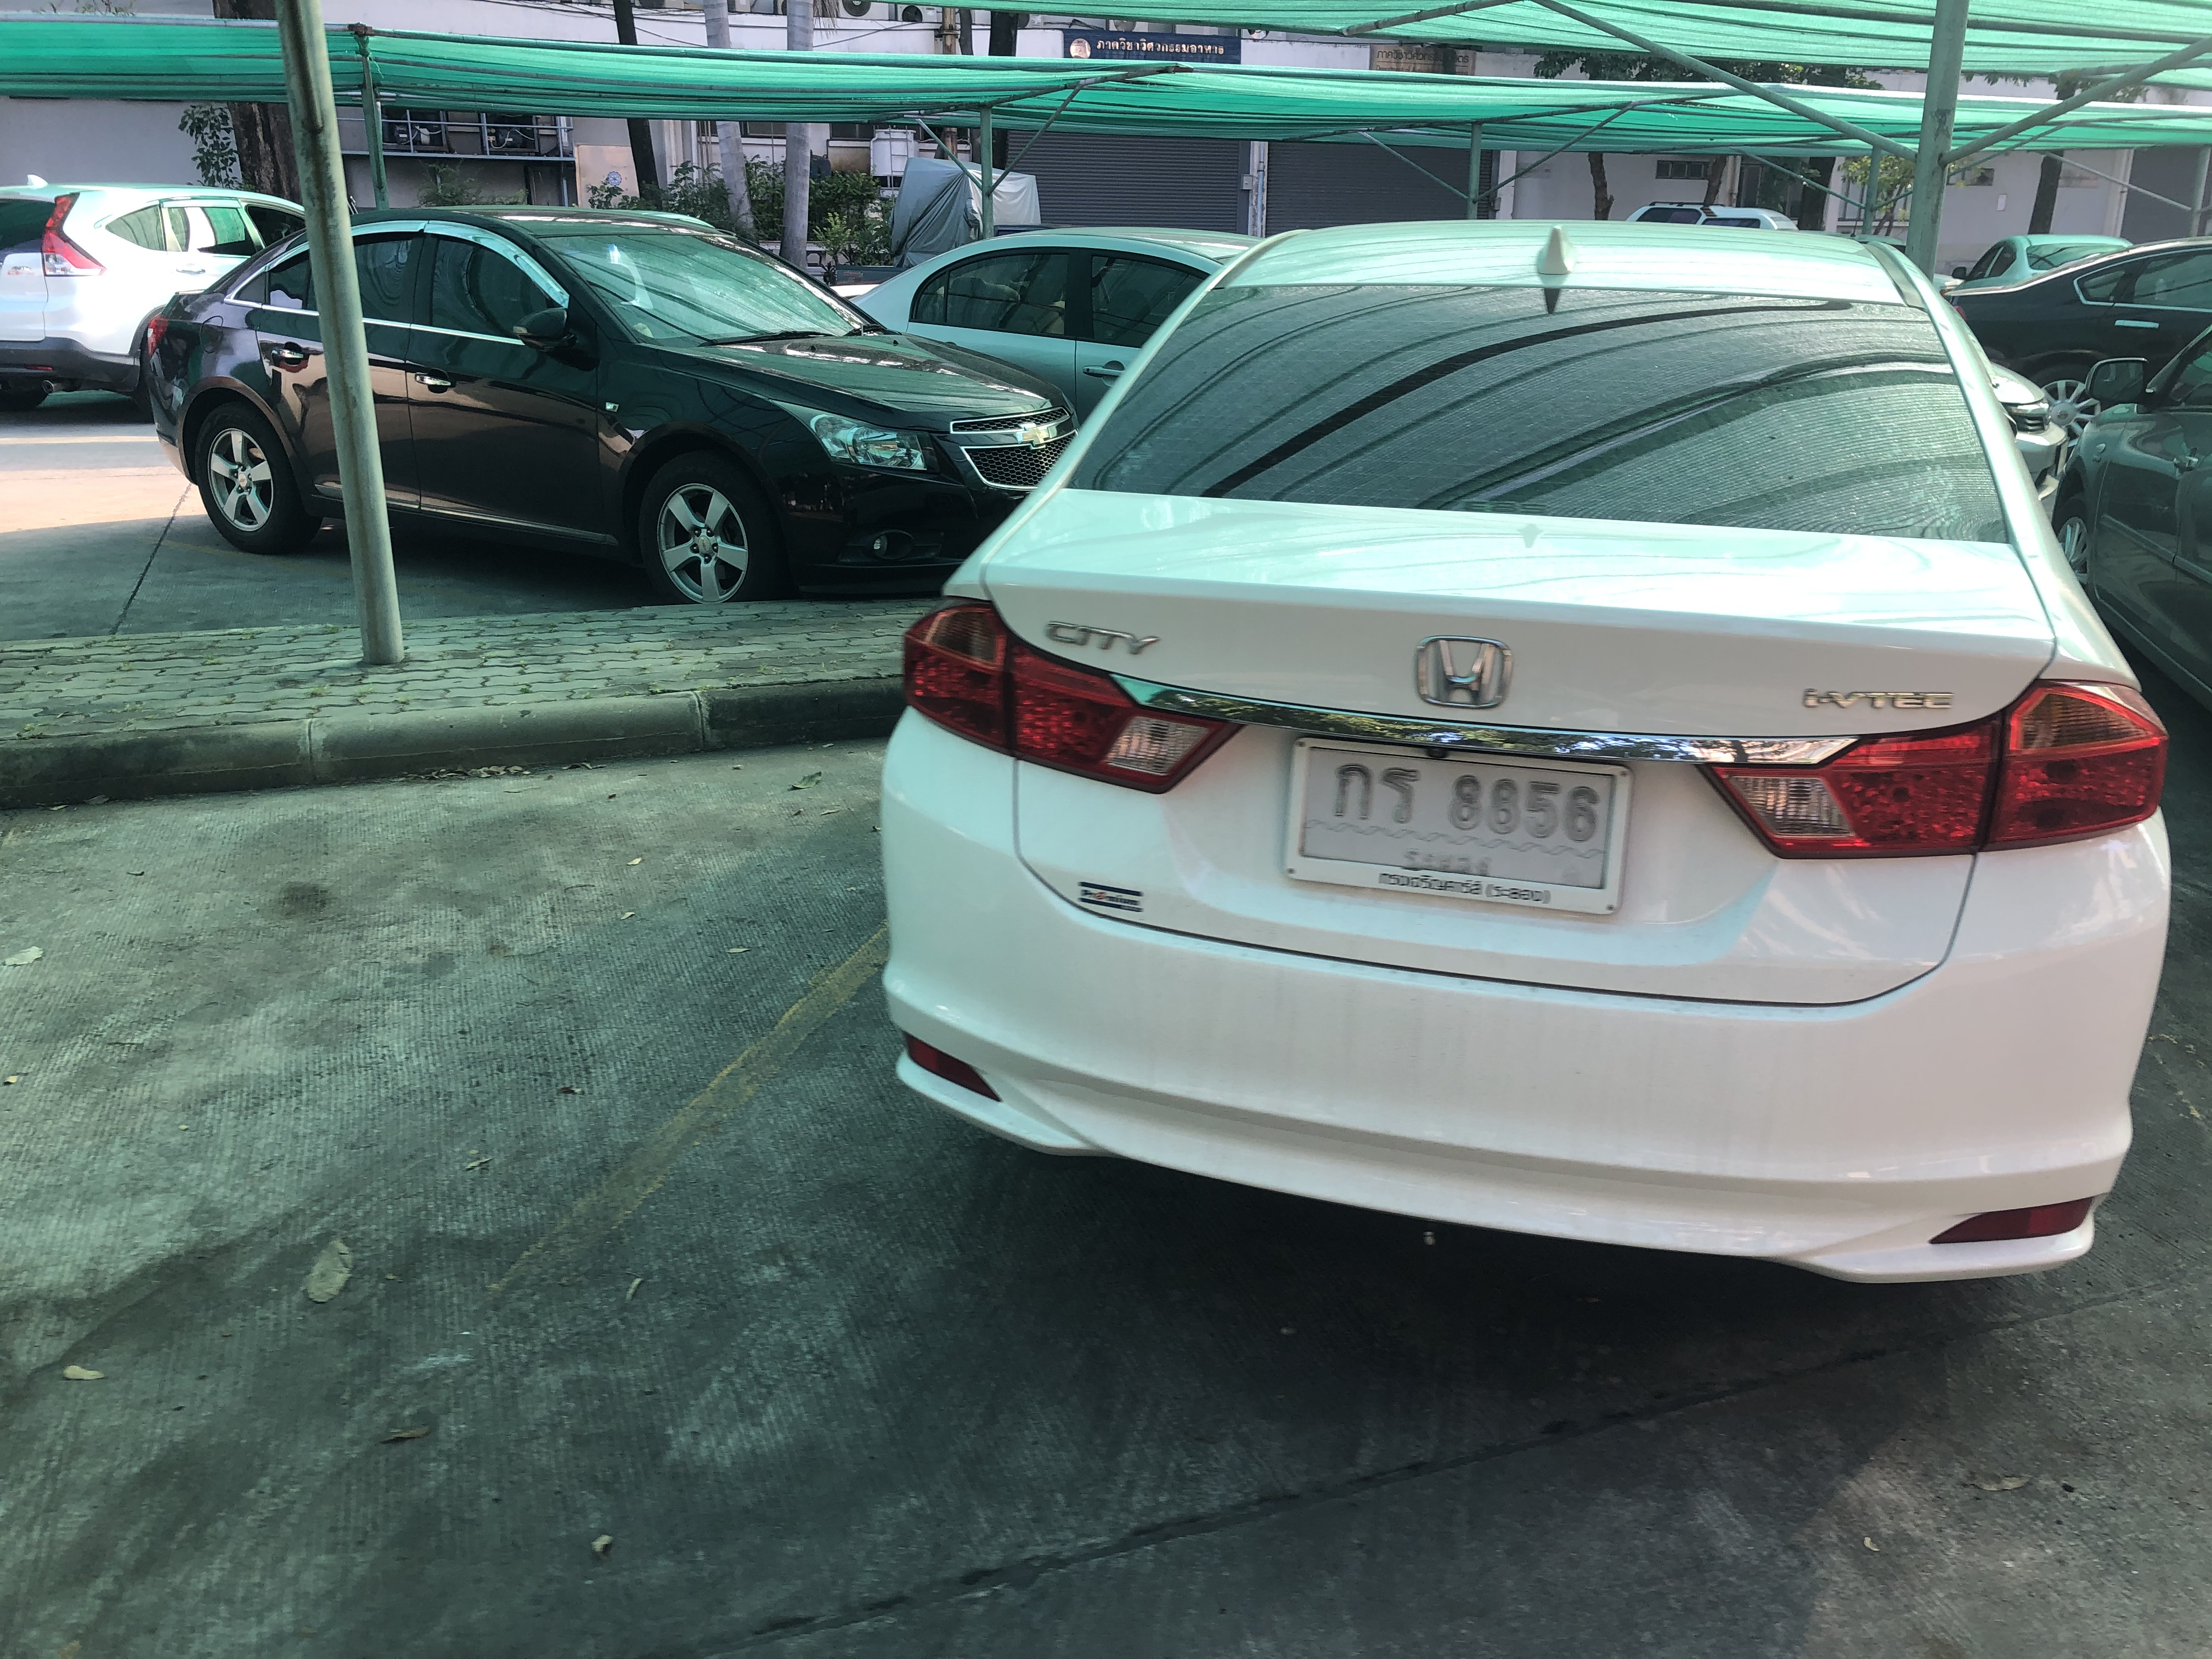in: (1306, 748, 1611, 897)
out: (1287, 730, 1632, 922)
